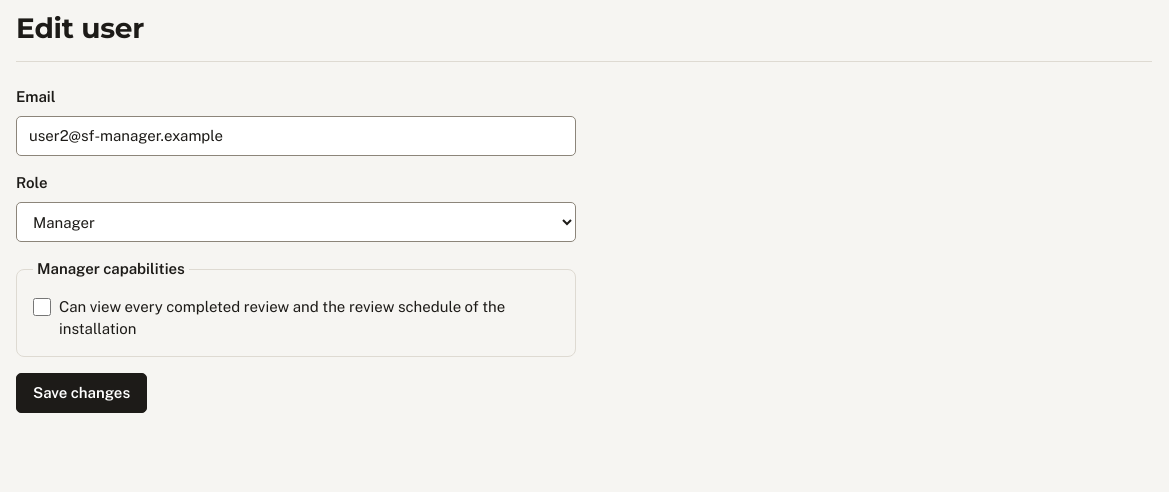
Test case: UserEditPage › shows a distinct concurrency-conflict message on a 409 TRANSACTION_CONFLICT response, without retrying
Click the button with test id "user-edit-submit" at coordinates (82, 393), box [16, 373, 147, 413]
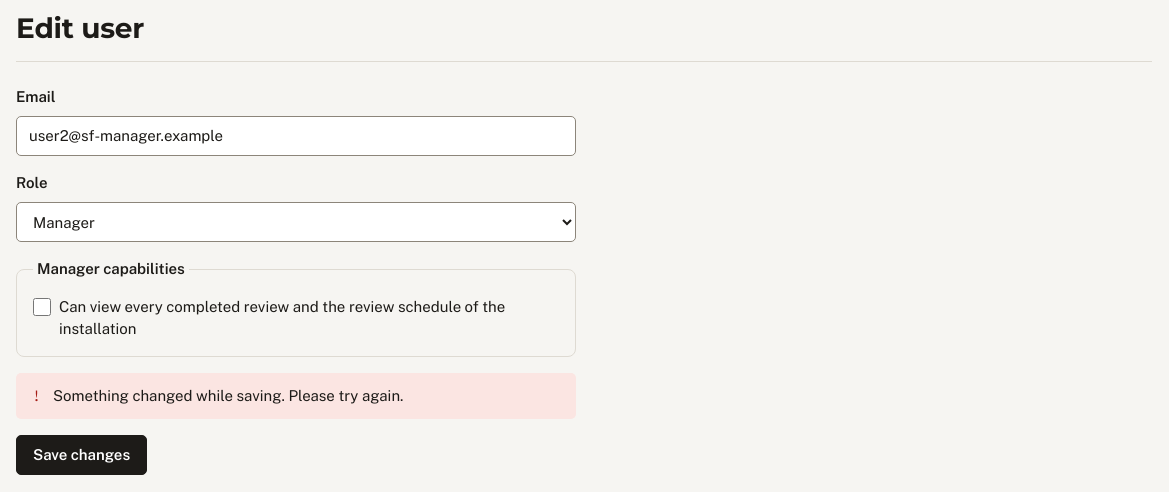
Now the message with test id "user-edit-error" shows "Something changed while saving. Please try again.", box [53, 387, 404, 404]
